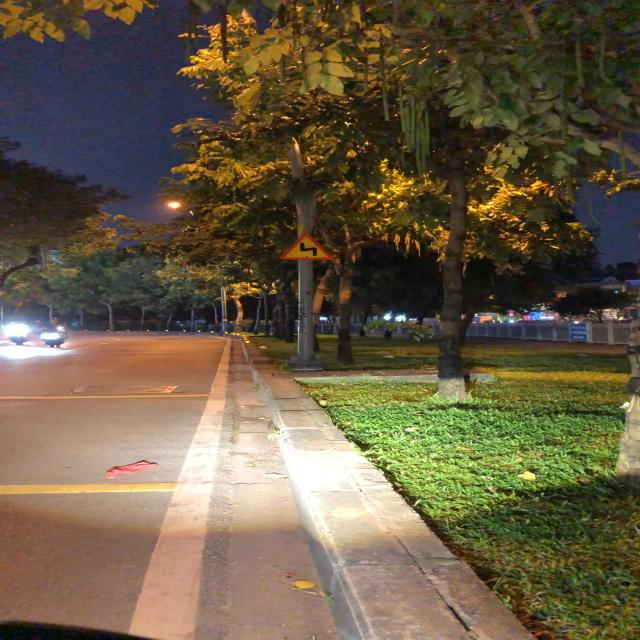Bien bao nhieu cho ngoat nguy hiem lien tiep: (278, 229, 338, 262)
